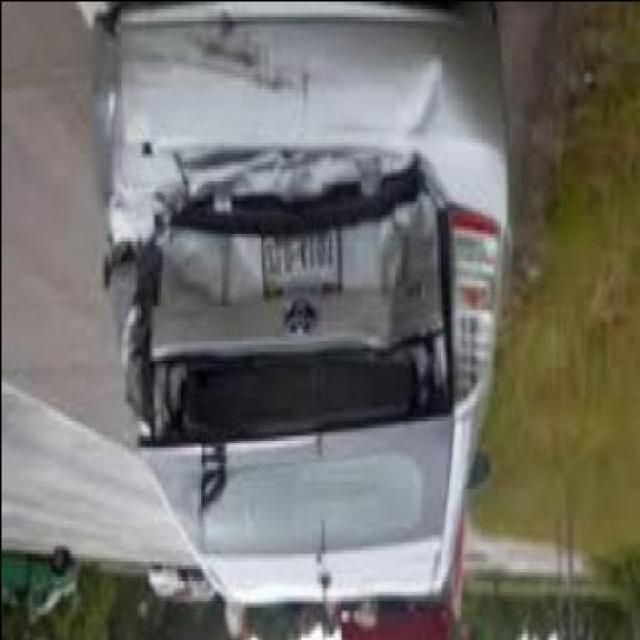damage: (102, 20, 503, 448)
